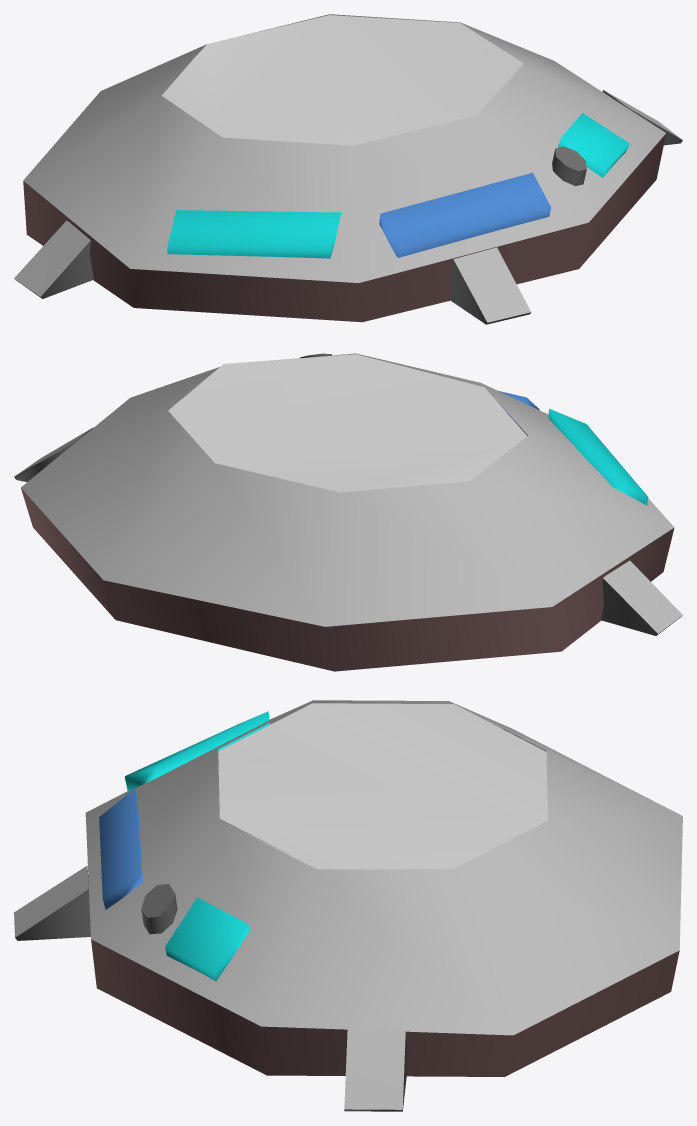
File: crio down.fbx
3 views of the same model, one above another, from view 1: azimuth 30°, elevation 25°; view 2: azimuth 150°, elevation 25°; view 3: azimuth 270°, elevation 25° (orthographic). The views are drawn at different scales.
Parts seen in each view (by area): view 1: PM3D_Circle3D3_215; view 2: PM3D_Circle3D3_215; view 3: PM3D_Circle3D3_215.
Boxes of the visible parts, x1=… form: PM3D_Circle3D3_215: x1=14, y1=14, x2=682, y2=324; PM3D_Circle3D3_215: x1=14, y1=353, x2=682, y2=671; PM3D_Circle3D3_215: x1=14, y1=700, x2=682, y2=1111.
Size of the model in its own units: 184 by 36.19 by 146.
